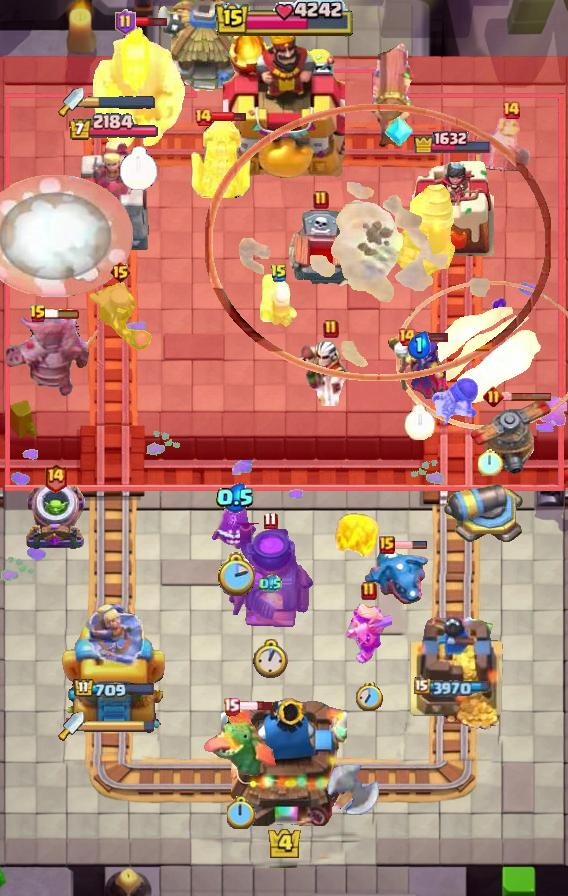arrows: (346, 601, 392, 665)
axe: (387, 333, 451, 399)
bar: (59, 595, 169, 731), (73, 140, 155, 256)
battle-healer: (369, 35, 417, 149)
clock: (214, 0, 354, 39)
dark-prince: (461, 392, 559, 474)
electro-spirit: (217, 483, 256, 513), (407, 331, 431, 359), (258, 574, 281, 594)
electro-wizard: (201, 707, 281, 779)
elixir: (119, 146, 158, 190), (217, 552, 256, 596), (252, 639, 288, 679), (405, 404, 436, 440), (227, 796, 256, 828), (356, 682, 383, 711), (477, 448, 502, 476)
elixir-golem-mid: (286, 209, 356, 295)
emote: (501, 390, 553, 401), (211, 109, 247, 122), (133, 16, 168, 29), (237, 700, 274, 712), (45, 308, 81, 320), (415, 331, 448, 343), (392, 540, 428, 550)
giant-skeleton: (90, 24, 186, 152)
goblin-ball: (429, 376, 481, 430)
goblin-brawler: (189, 114, 251, 198)
goblin-cage: (23, 482, 87, 552)
golemite: (5, 310, 101, 396)
graveyard: (362, 547, 430, 607)
hunter: (225, 523, 315, 631)
ice-wizard: (396, 281, 568, 430)
king-tower: (223, 27, 345, 181), (221, 690, 347, 826)
king-tower-bar: (84, 95, 156, 109), (84, 719, 156, 733)
magic-archer: (396, 184, 456, 276)
mortar-evolution: (476, 118, 546, 176)
pad_2: (385, 114, 413, 148)
prince: (153, 0, 255, 96)
queen-tower: (403, 613, 506, 731), (412, 156, 494, 256)
rascal-girl: (86, 279, 154, 353)
royal-ghost: (205, 102, 551, 381)
royal-giant: (319, 765, 379, 825)
royal-recruit: (442, 482, 524, 552)
selected: (68, 113, 160, 142), (413, 127, 493, 153), (72, 678, 155, 700), (414, 677, 492, 697)
skeleton-king: (294, 340, 368, 406)
spear-goblin: (211, 502, 259, 554)
text: (44, 462, 69, 493), (115, 9, 137, 35), (109, 260, 132, 284), (483, 385, 504, 406), (501, 100, 521, 120), (193, 107, 213, 127), (397, 327, 417, 347), (270, 263, 288, 283), (29, 304, 47, 324), (224, 696, 241, 715), (313, 190, 329, 210), (323, 319, 339, 339), (361, 581, 377, 601), (379, 536, 395, 554), (263, 511, 277, 529)
tombstone: (258, 271, 300, 329)
valkyrie: (325, 506, 385, 570)
wall-breaker: (0, 175, 132, 297)
